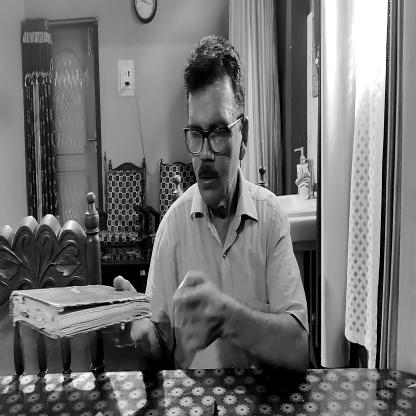Distracted: (185, 31, 246, 212)
